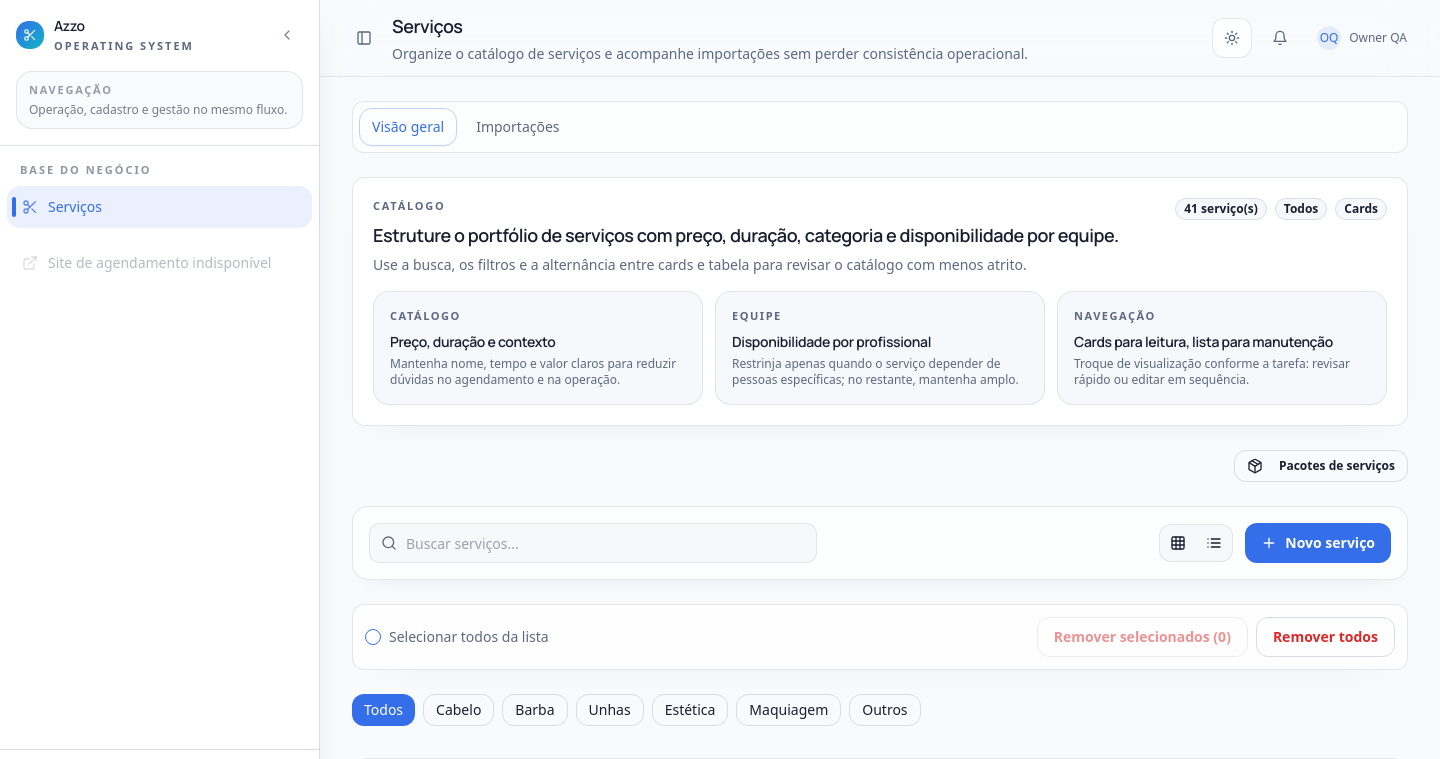
Test: Services › should open the service create dialog with the shared submit pattern
This screenshot has width=1440, height=759.
Click the button "Novo serviço" at coordinates (1318, 543), box [1245,523,1391,563]
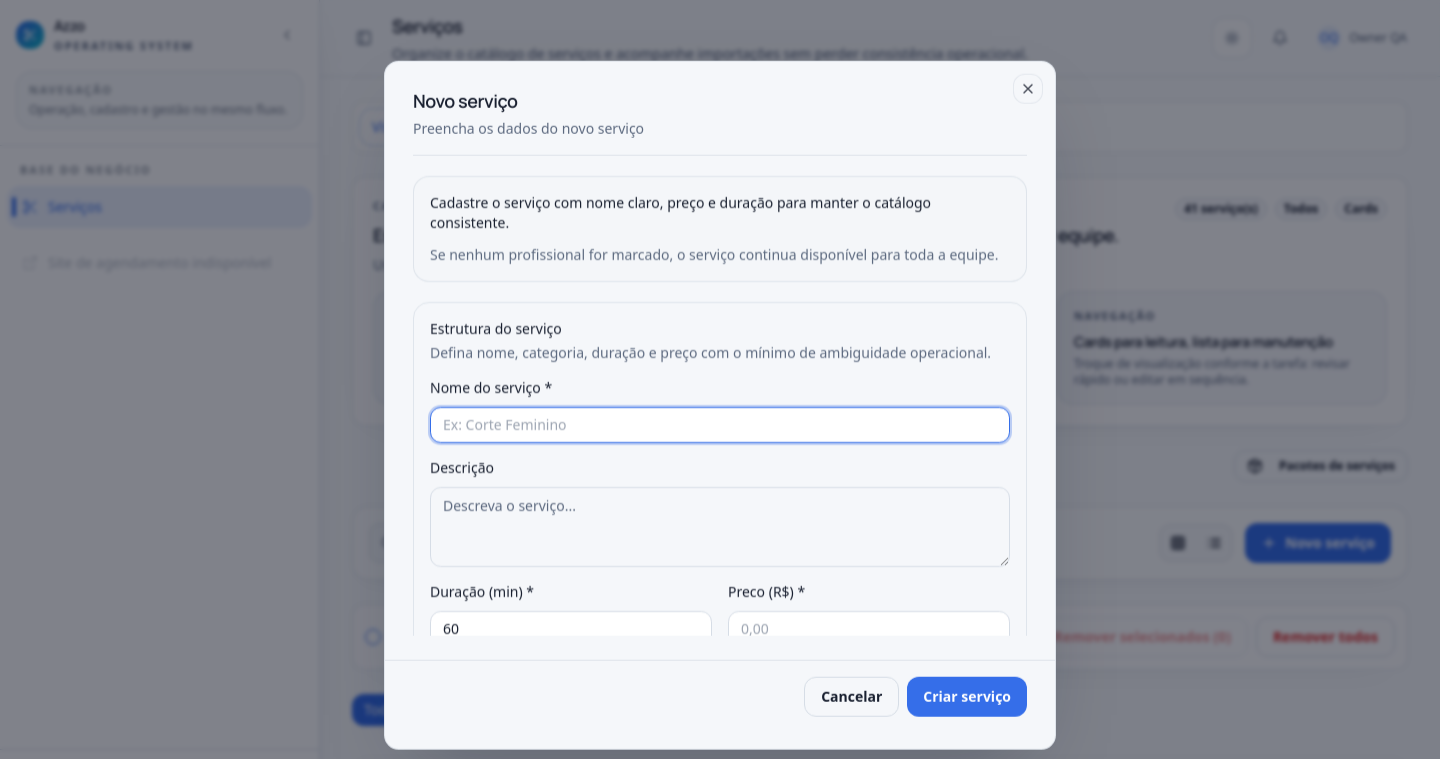
Expected: the text "Novo serviço" is shown, [1285,533,1375,553]
Now the button "Criar serviço" is shown, box [907,676,1027,716]
